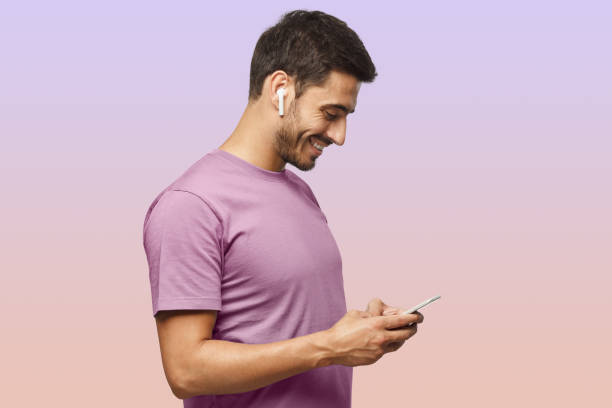Male: (140, 9, 441, 404)
